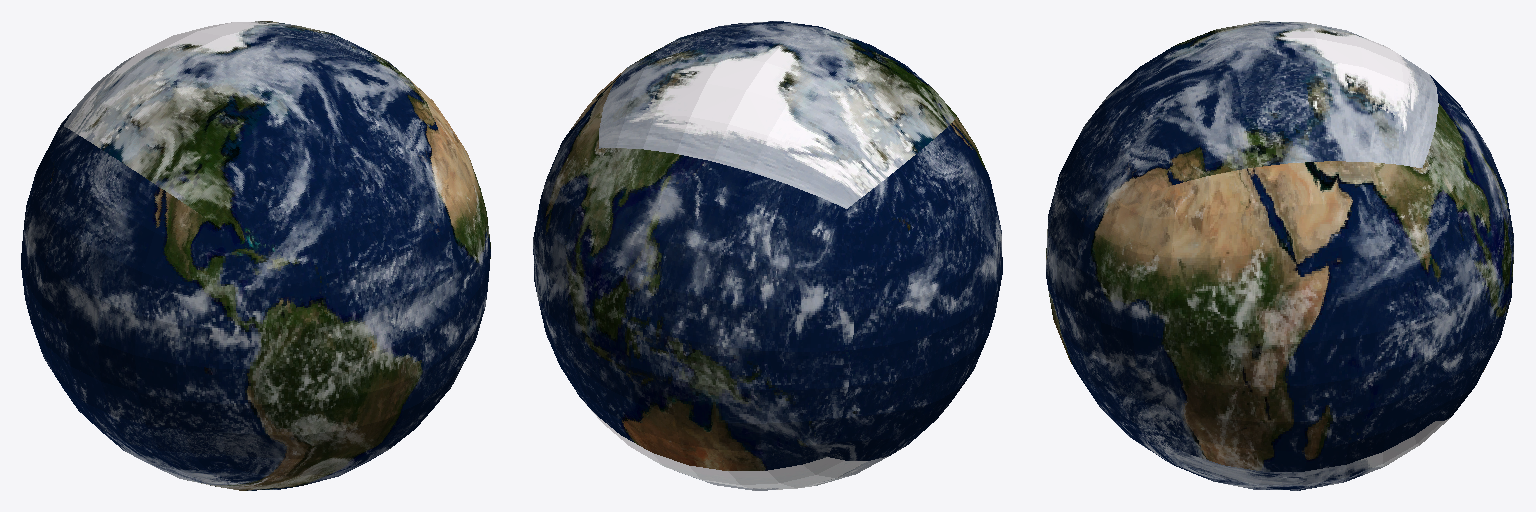
The picture shows the model from 3 angles: view 1: azimuth 30°, elevation 25°; view 2: azimuth 150°, elevation 25°; view 3: azimuth 270°, elevation 25°; orthographic projection.
Parts seen in each view (by area): view 1: Earth_Cube.002; view 2: Earth_Cube.002; view 3: Earth_Cube.002.
Boxes of the visible parts, box(x1,y1,x2,y2) form: Earth_Cube.002: box(21, 21, 490, 490); Earth_Cube.002: box(533, 21, 1002, 490); Earth_Cube.002: box(1046, 21, 1513, 490).
Size of the model in its own units: 6.31 by 6.33 by 6.31.
Materials: 1 (1 with a texture image).